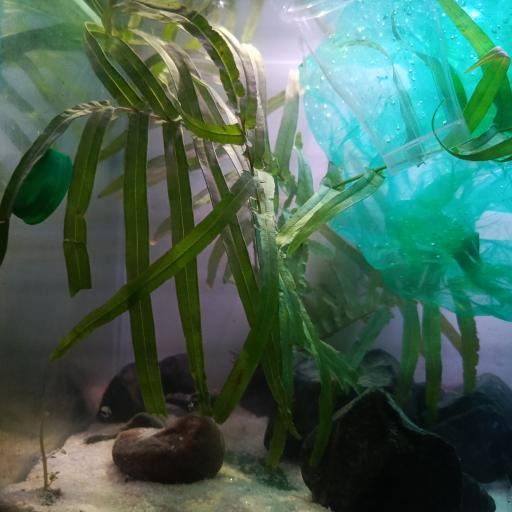bottle_cap: (10, 147, 71, 228)
plastic_bag: (293, 0, 512, 324)
plastic_cup: (278, 0, 466, 174)
